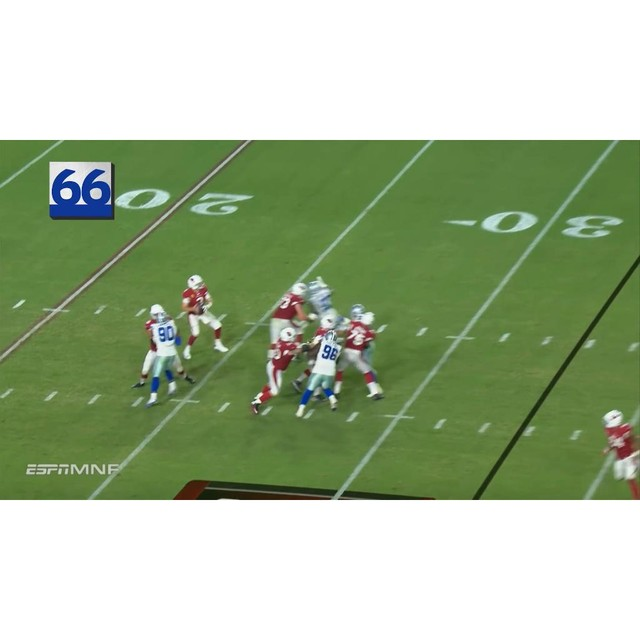american-football-player: (140, 306, 196, 404), (249, 329, 306, 414), (335, 313, 384, 402), (179, 274, 229, 357), (296, 331, 342, 418), (598, 410, 640, 500), (268, 282, 312, 342), (306, 275, 339, 328)
